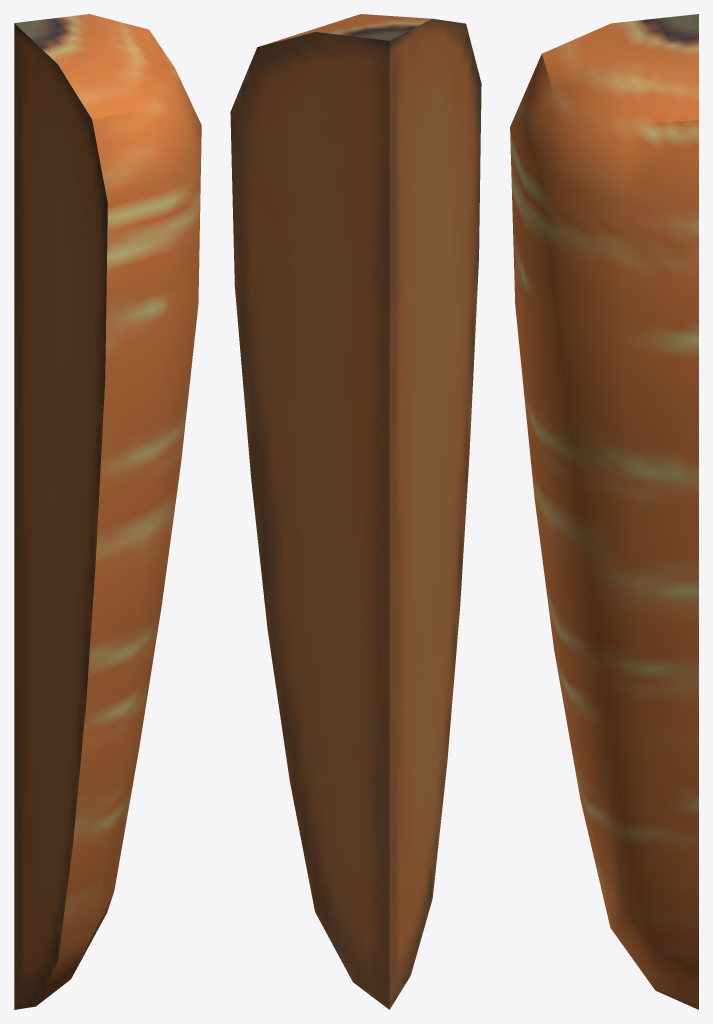
File: Carrot_fragment.fbx
3 renders of one model, left to right at view 1: azimuth 30°, elevation 25°; view 2: azimuth 150°, elevation 25°; view 3: azimuth 270°, elevation 25°, orthographic. The views are drawn at different scales.
Visible parts, largest first — view 1: NN_CaRot_fragment; view 2: NN_CaRot_fragment; view 3: NN_CaRot_fragment.
Boxes of the visible parts, x1=… form: NN_CaRot_fragment: x1=14, y1=14, x2=201, y2=1009; NN_CaRot_fragment: x1=230, y1=14, x2=481, y2=1009; NN_CaRot_fragment: x1=510, y1=14, x2=698, y2=1009.
Size of the model in its own units: 4.95 by 28.8 by 4.95.
